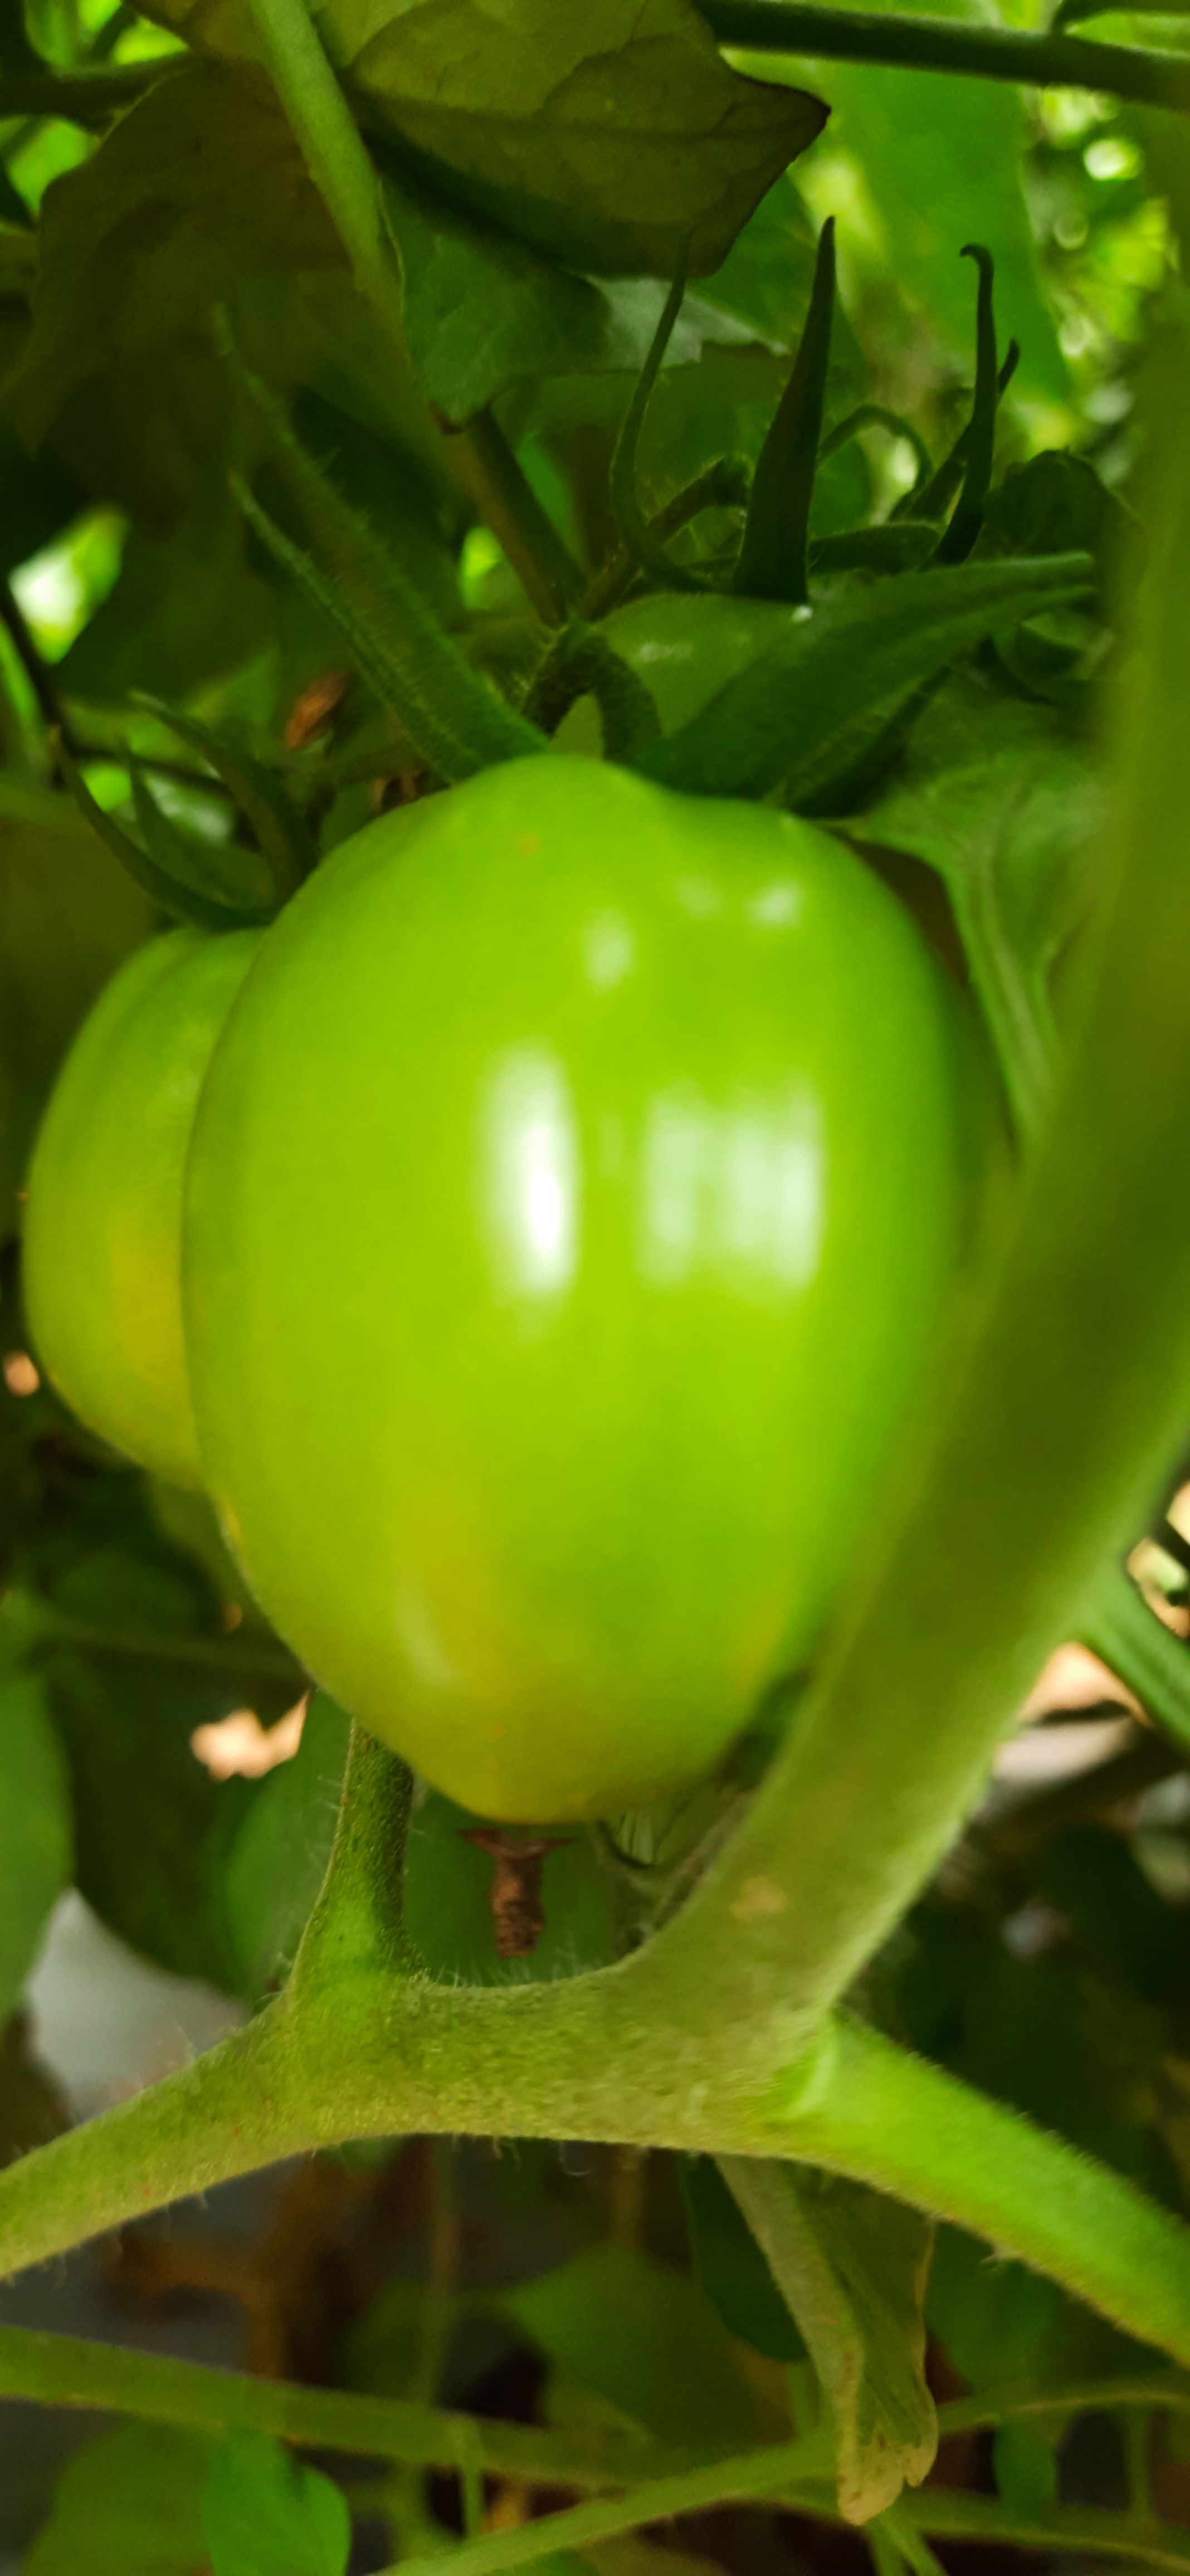raw_tomato: (194, 723, 976, 1891)
